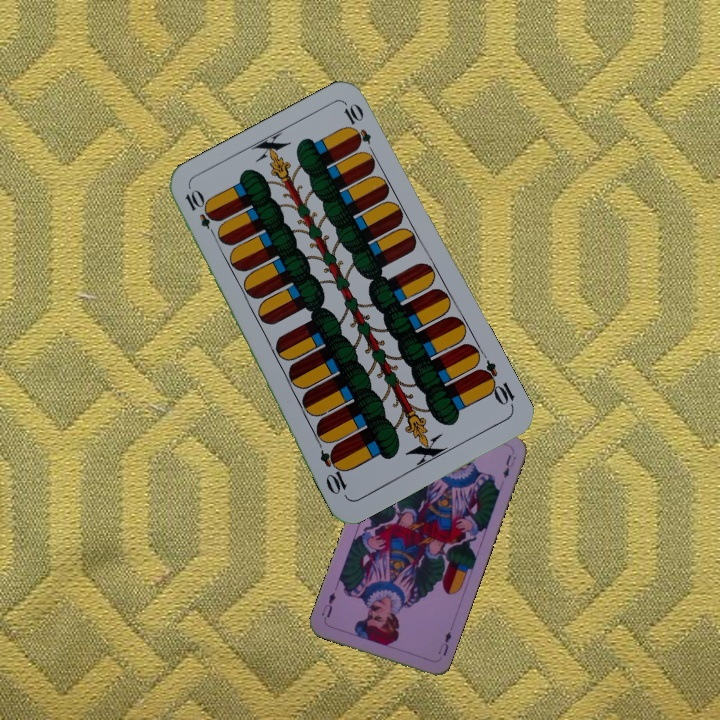E10: (474, 356, 518, 411), (181, 186, 221, 241)
EU: (434, 627, 455, 658)
